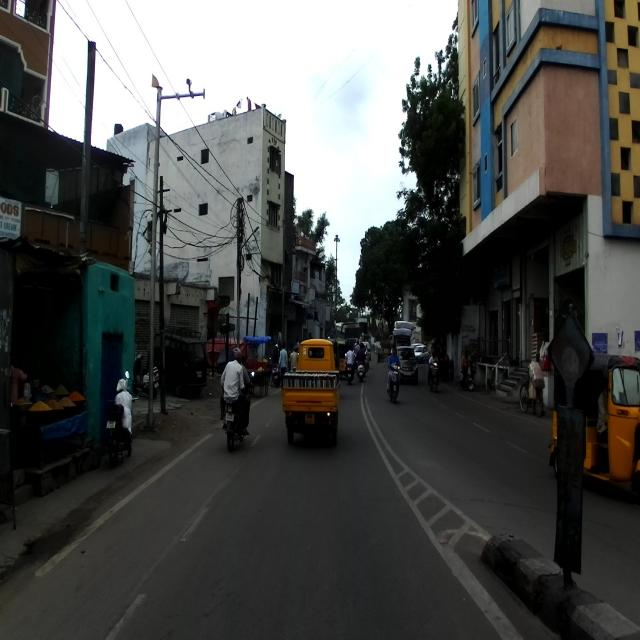Car_Maruti-Suzuki: (146, 325, 207, 399)
autorickshaw: (548, 353, 640, 504), (280, 336, 341, 444)
motorcycle_Hero: (221, 370, 255, 453)
motorcycle_TVS: (102, 369, 134, 469)
